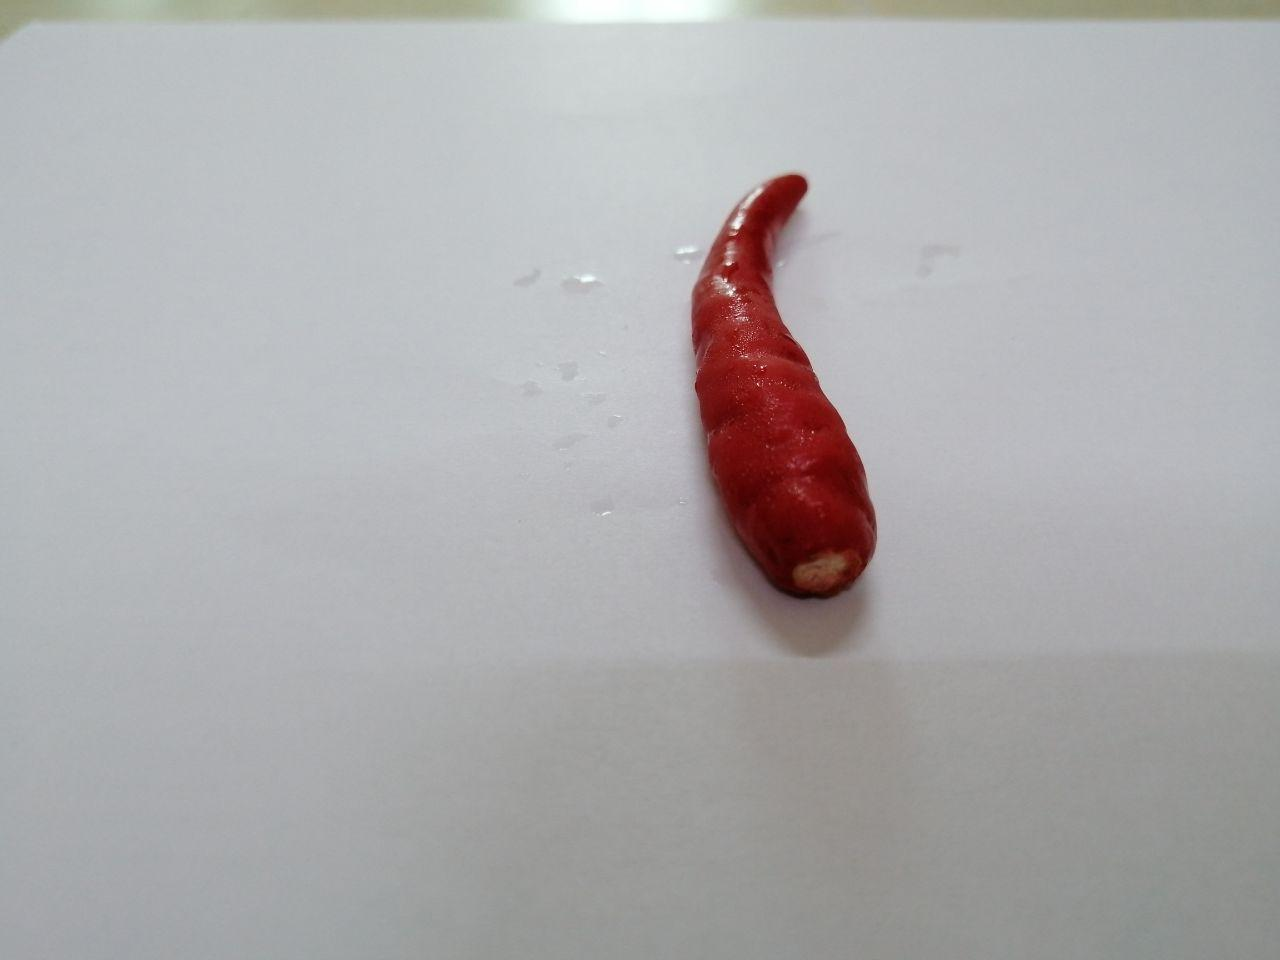lada merah: (683, 149, 900, 617)
